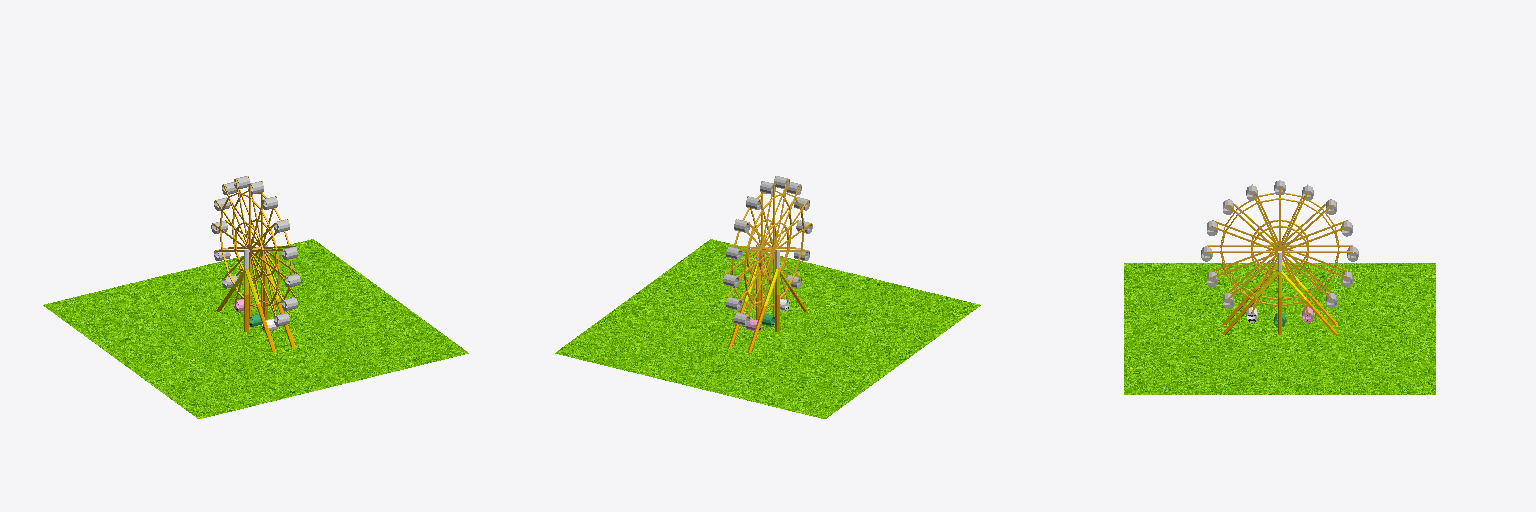
The picture shows the model from 3 angles: view 1: azimuth 30°, elevation 25°; view 2: azimuth 150°, elevation 25°; view 3: azimuth 270°, elevation 25°; orthographic projection.
Parts seen in each view (by area): view 1: Ground_Plane.002, Wheel_Plane.001, Base.002_Plane.017; view 2: Ground_Plane.002, Wheel_Plane.001, Base.002_Plane.017; view 3: Ground_Plane.002, Wheel_Plane.001, Base_Plane.003.
Boxes of the visible parts, box(x1,y1,x2,y2) form: Ground_Plane.002: box(43, 239, 468, 418); Wheel_Plane.001: box(213, 176, 298, 316); Base.002_Plane.017: box(216, 249, 275, 352); Ground_Plane.002: box(555, 239, 980, 418); Wheel_Plane.001: box(725, 176, 810, 316); Base.002_Plane.017: box(748, 249, 806, 352); Ground_Plane.002: box(1124, 263, 1435, 394); Wheel_Plane.001: box(1207, 184, 1352, 313); Base_Plane.003: box(1222, 251, 1337, 334).
Size of the model in its own units: 11.4 by 5.88 by 11.4.
7 materials, 5 textured.